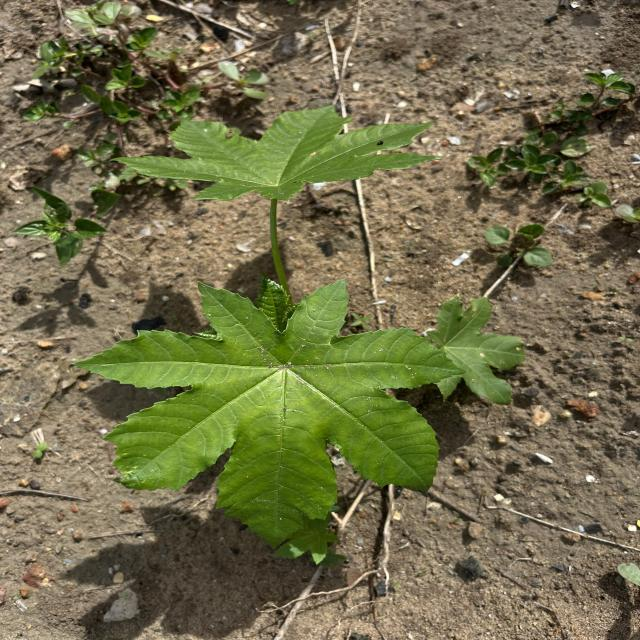Ricinus communis linn: (66, 277, 468, 553), (106, 100, 446, 208)
